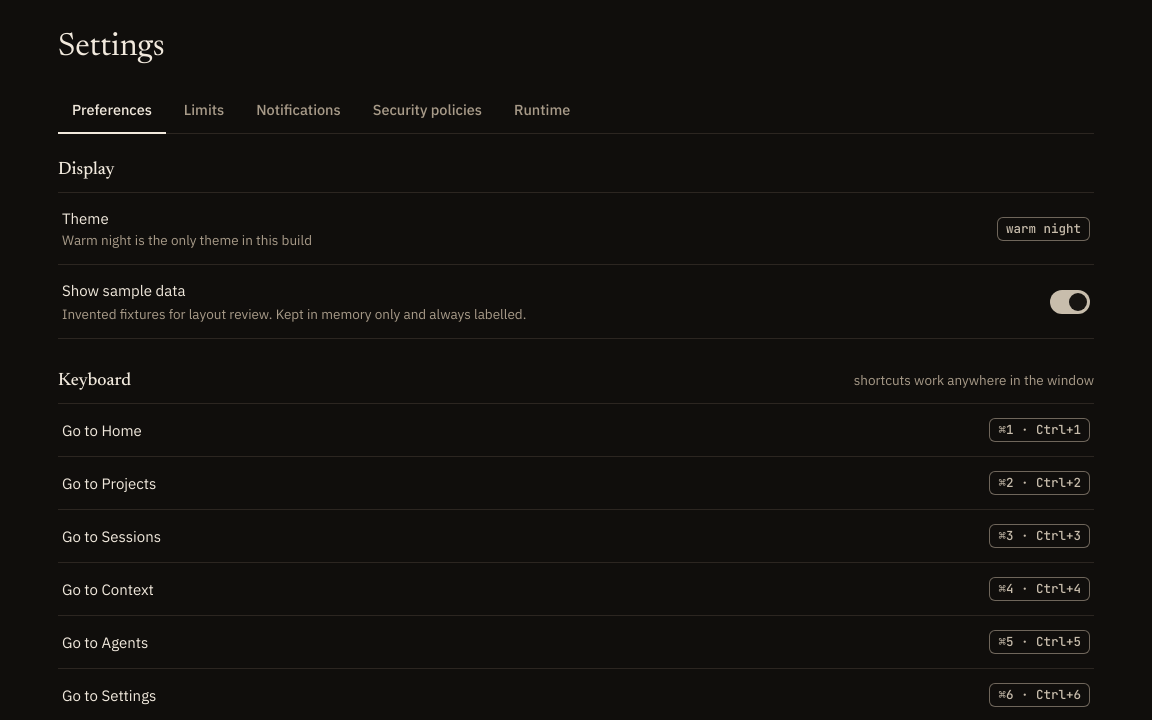
it: runtime status in Settings › queries once on opening the tab, showing a quiet loading state
Click the tab "Runtime" at (542, 112), box left=500, top=90, right=584, bottom=134
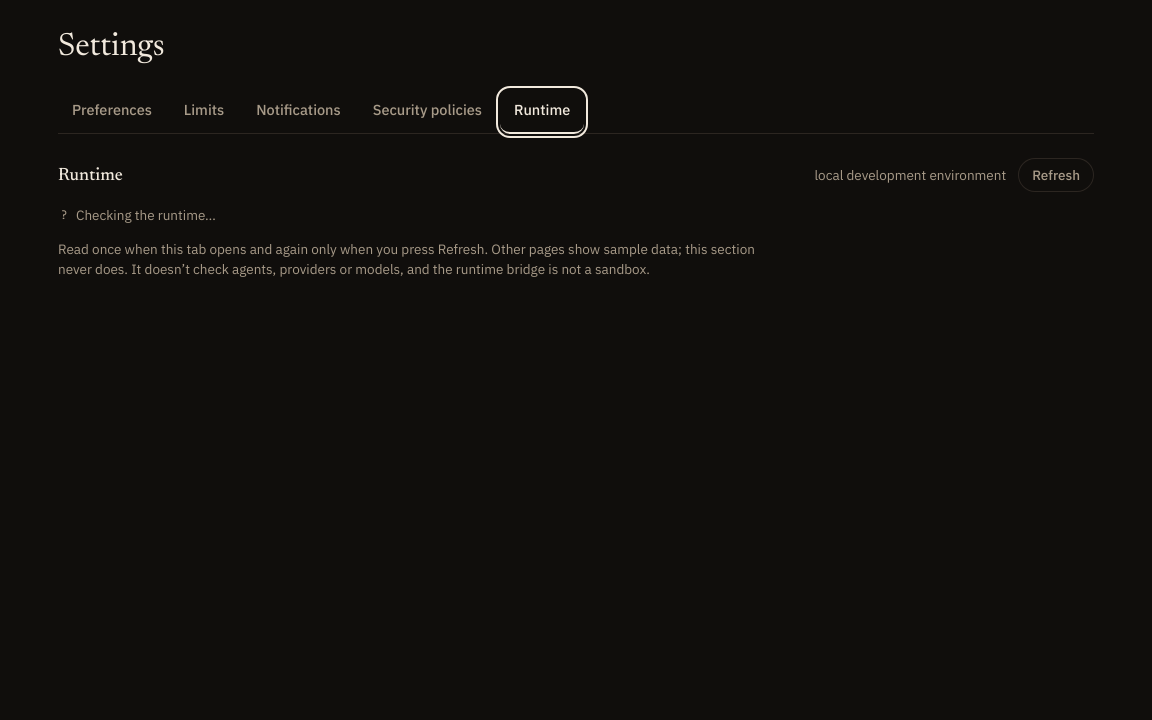
Now the message reads "Checking the runtime…", box left=76, top=206, right=216, bottom=224
